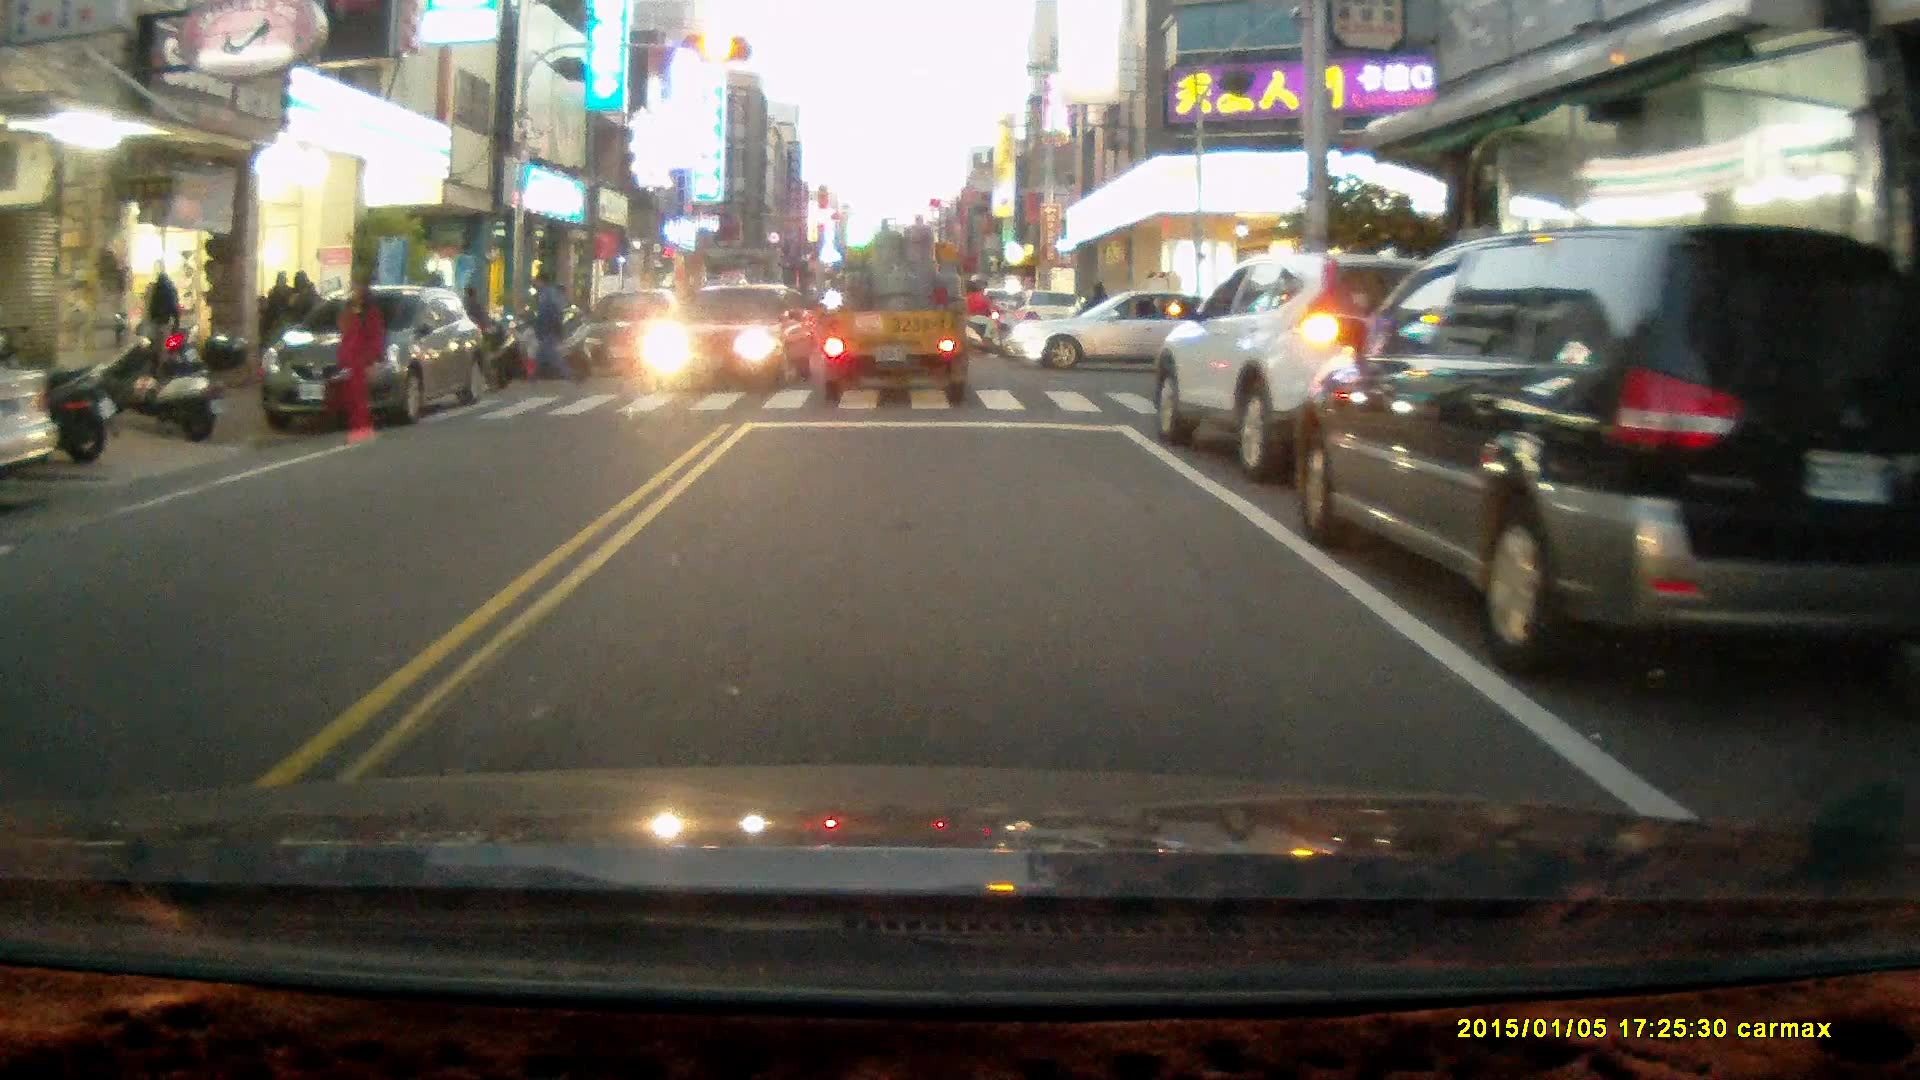pedestrian: (330, 270, 385, 440), (514, 266, 579, 388), (140, 266, 181, 370)
rider: (939, 268, 1025, 358)
vehicle: (1301, 226, 1913, 678), (1153, 249, 1500, 477), (259, 287, 476, 435), (817, 212, 982, 402), (1016, 286, 1245, 374), (642, 282, 815, 391), (568, 287, 697, 378)
